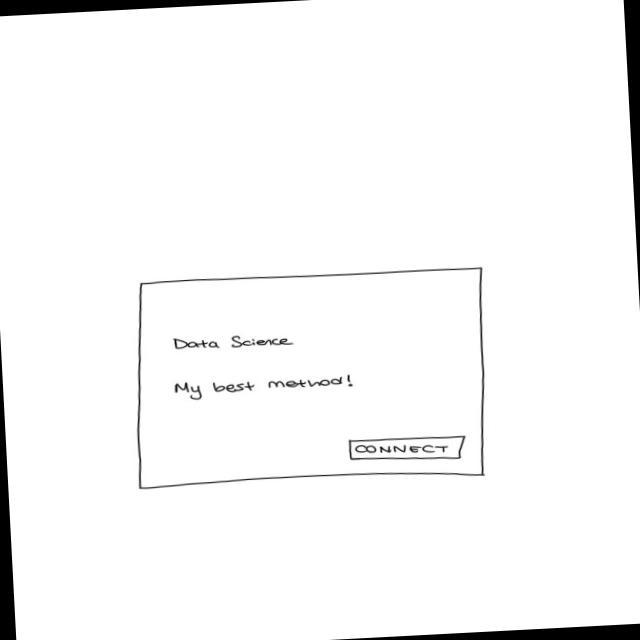button: (344, 431, 472, 466)
container: (124, 261, 497, 498)
label: (168, 370, 362, 404), (166, 324, 301, 356)
